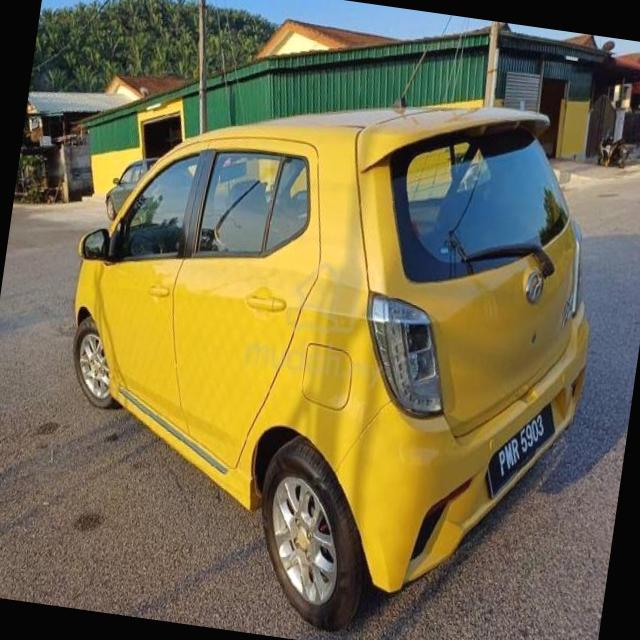PeroduaAxia: (29, 46, 623, 640)
